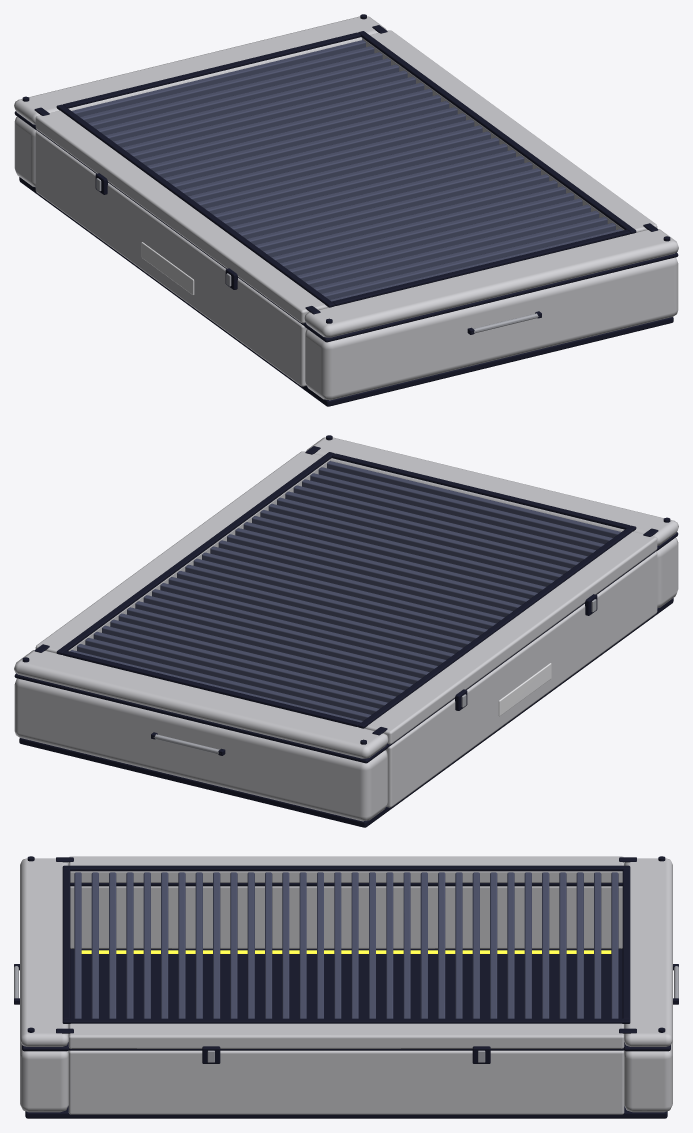
Rendered from roof.box.w2.d3.v2.glb.
The picture shows the model from 3 angles, top to bottom: view 1: azimuth 30°, elevation 25°; view 2: azimuth 150°, elevation 25°; view 3: azimuth 270°, elevation 25°; orthographic projection. The views are drawn at different scales.
Parts seen in each view (by area): view 1: roof.box.w2.d3.v2; view 2: roof.box.w2.d3.v2; view 3: roof.box.w2.d3.v2.
Boxes of the visible parts, x1,y1,x2,y2 form: roof.box.w2.d3.v2: (14,14,678,406); roof.box.w2.d3.v2: (14,435,678,827); roof.box.w2.d3.v2: (14,856,678,1118).
Bounding box in the file's own units: 1.96 × 0.432 × 2.95.
